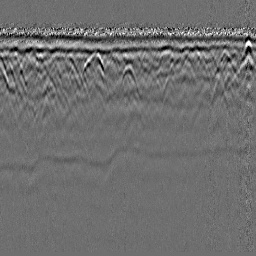cavity: (116, 63, 142, 100)
